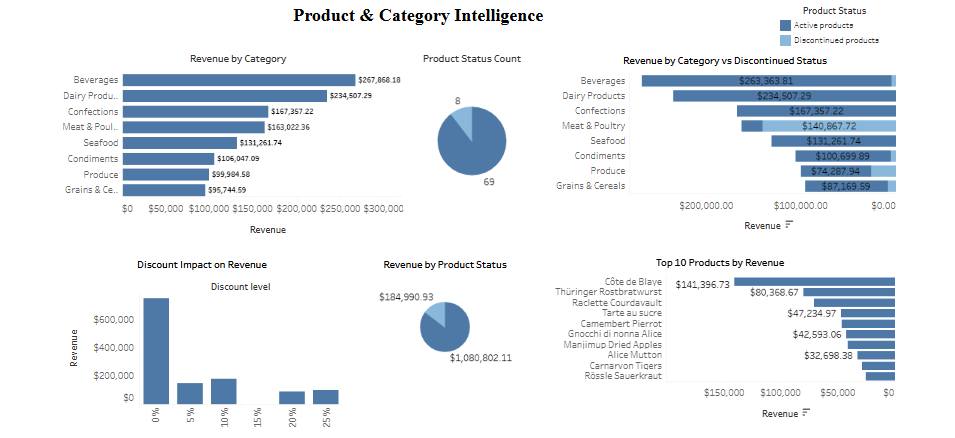

What the dashboard file says about the page in this screenshot:
{"tool":"tableau","page":{"name":"Page 2","canvas":[1000,1000],"units":"permille","ordinal":3},"visuals":[{"type":"text","box":[7.1,10.8,843.7,49.7]},{"type":"legend","title":"Sheet 11","param":"[federated.0t04x5t1wbccgz1bu4hci1i13do6].[none:discontinued:ok]","box":[850.8,10.8,142.1,88.7]},{"type":"worksheet","title":"Sheet 1 (2)","mark":"Bar","rows":["categoryName"],"cols":["Calculation_1402216471646209"],"box":[7.1,92.7,419.2,345.4]},{"type":"worksheet","title":"Sheet 14","mark":"Automatic","rows":["categoryName"],"cols":["Calculation_1402216471646209"],"box":[589.7,95.4,405,337.4]},{"type":"worksheet","title":"Sheet 11","mark":"Pie","box":[424.5,98.1,153.6,246]},{"type":"worksheet","title":"Sheet 8","mark":"Automatic","rows":["productName"],"cols":["Calculation_1402216471646209"],"box":[579.9,458.3,413,319.9]},{"type":"worksheet","title":"Sheet 9 (2)","mark":"Pie","box":[380.1,461,196.3,278.2]},{"type":"worksheet","title":"Sheet 10","mark":"Automatic","rows":["Calculation_1402216471646209"],"cols":["Discount (bin)"],"box":[6.2,462.4,333,325.3]}]}

Visuals, with their boxes on the dashboard's canvas, which has no fixed pixel size, in thousandths of its width and height (x1, y1, x2, y2). These are canvas units, not pixel positions in the 955x438 screenshot, which may show the page scaled, cropped or inside an application window:
text: BBox(7, 11, 851, 60)
"Sheet 11" legend: BBox(851, 11, 993, 100)
"Sheet 1 (2)" worksheet (Bar marks): BBox(7, 93, 426, 438)
"Sheet 14" worksheet: BBox(590, 95, 995, 433)
"Sheet 11" worksheet (Pie marks): BBox(424, 98, 578, 344)
"Sheet 8" worksheet: BBox(580, 458, 993, 778)
"Sheet 9 (2)" worksheet (Pie marks): BBox(380, 461, 576, 739)
"Sheet 10" worksheet: BBox(6, 462, 339, 788)
